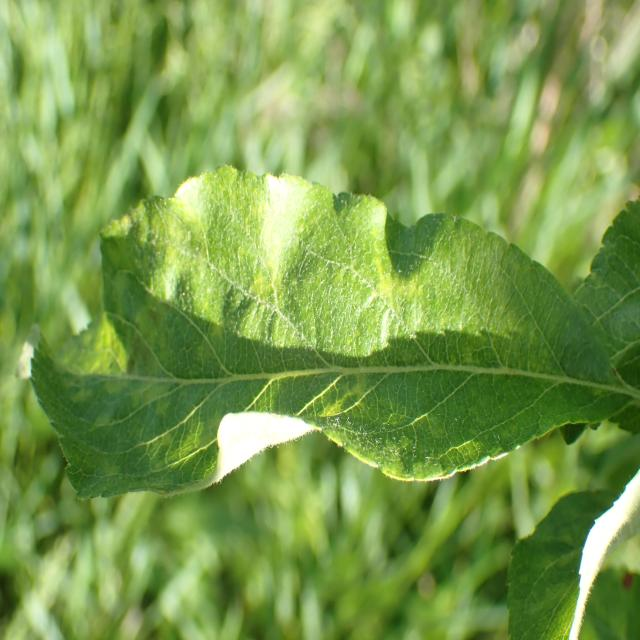scab: (85, 188, 572, 458)
